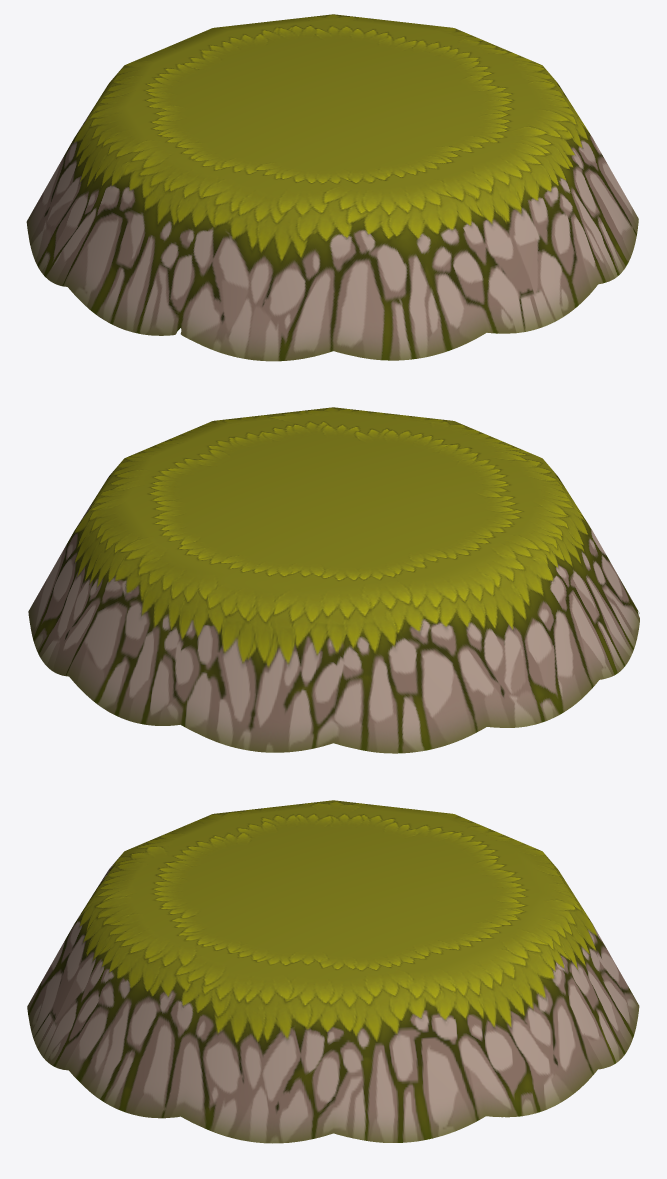
File: Hill_05.FBX
3 views of the same model, one above another, from view 1: azimuth 30°, elevation 25°; view 2: azimuth 150°, elevation 25°; view 3: azimuth 270°, elevation 25° (orthographic).
Parts seen in each view (by area): view 1: Hill_05; view 2: Hill_05; view 3: Hill_05.
Part boxes in pixels (left/top/right/bottom): Hill_05: left=26, top=14, right=638, bottom=361; Hill_05: left=28, top=407, right=639, bottom=753; Hill_05: left=27, top=800, right=639, bottom=1143.
Bounding box in the file's own units: 224 × 52.98 × 224.
1 material, 1 textured.
